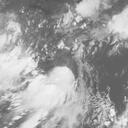cyclone: (27, 66, 82, 111)
